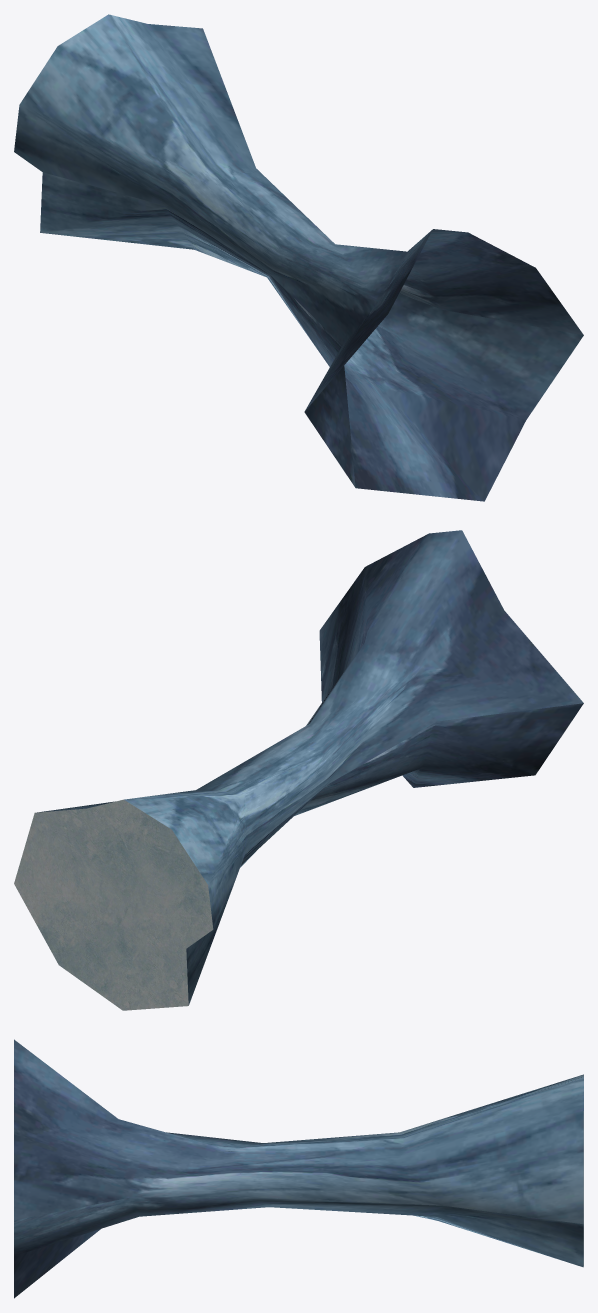
3 views of the same model, one above another, from view 1: azimuth 30°, elevation 25°; view 2: azimuth 150°, elevation 25°; view 3: azimuth 270°, elevation 25° (orthographic). The views are drawn at different scales.
Visible parts, largest first — view 1: Object10; view 2: Object10; view 3: Object10.
Part boxes in pixels (left/top/right/bottom): Object10: left=14, top=14, right=583, bottom=501; Object10: left=14, top=530, right=583, bottom=1010; Object10: left=14, top=1039, right=583, bottom=1298.
Bounding box in the file's own units: 22504 × 21930 × 47560.
